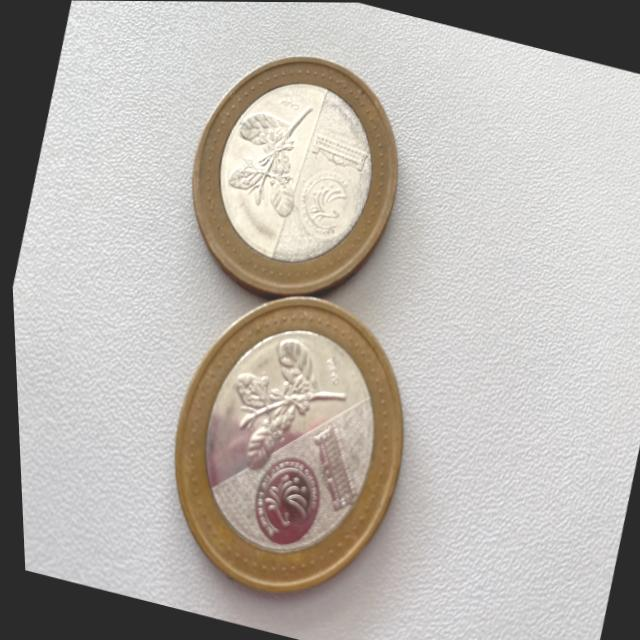20_New_Back: (209, 328, 359, 484), (217, 88, 326, 235)
